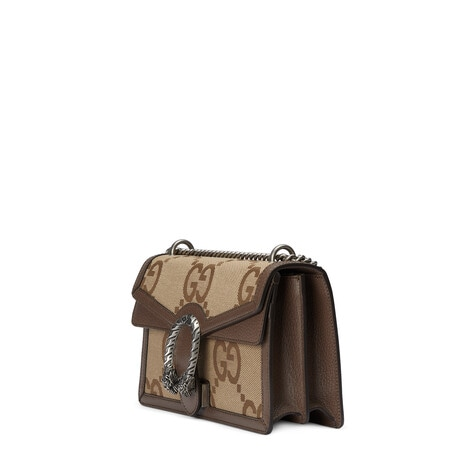Gucci: (134, 234, 358, 435), (144, 303, 210, 403), (180, 266, 221, 297)
